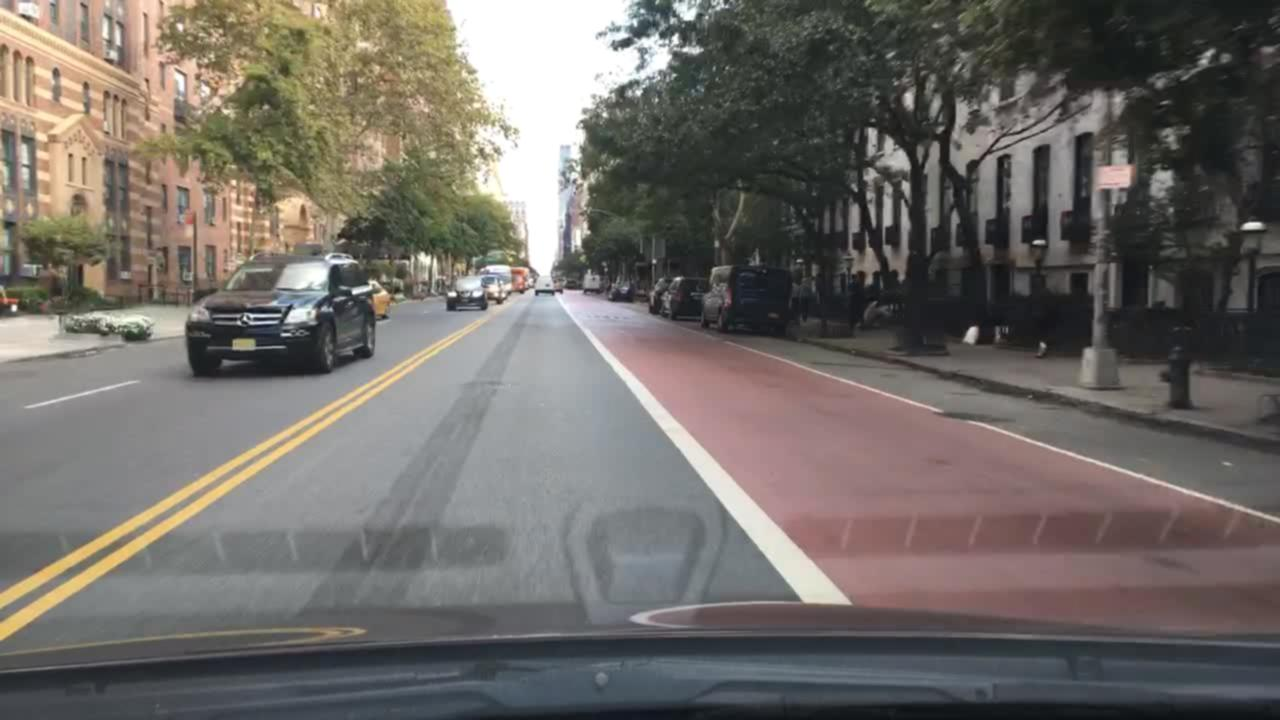Mercedes: (230, 308, 255, 331)
